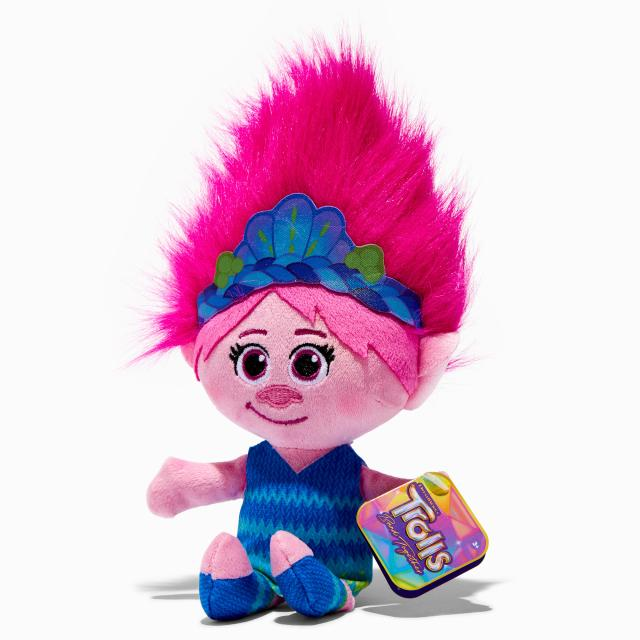soft-toy: (149, 42, 470, 621)
